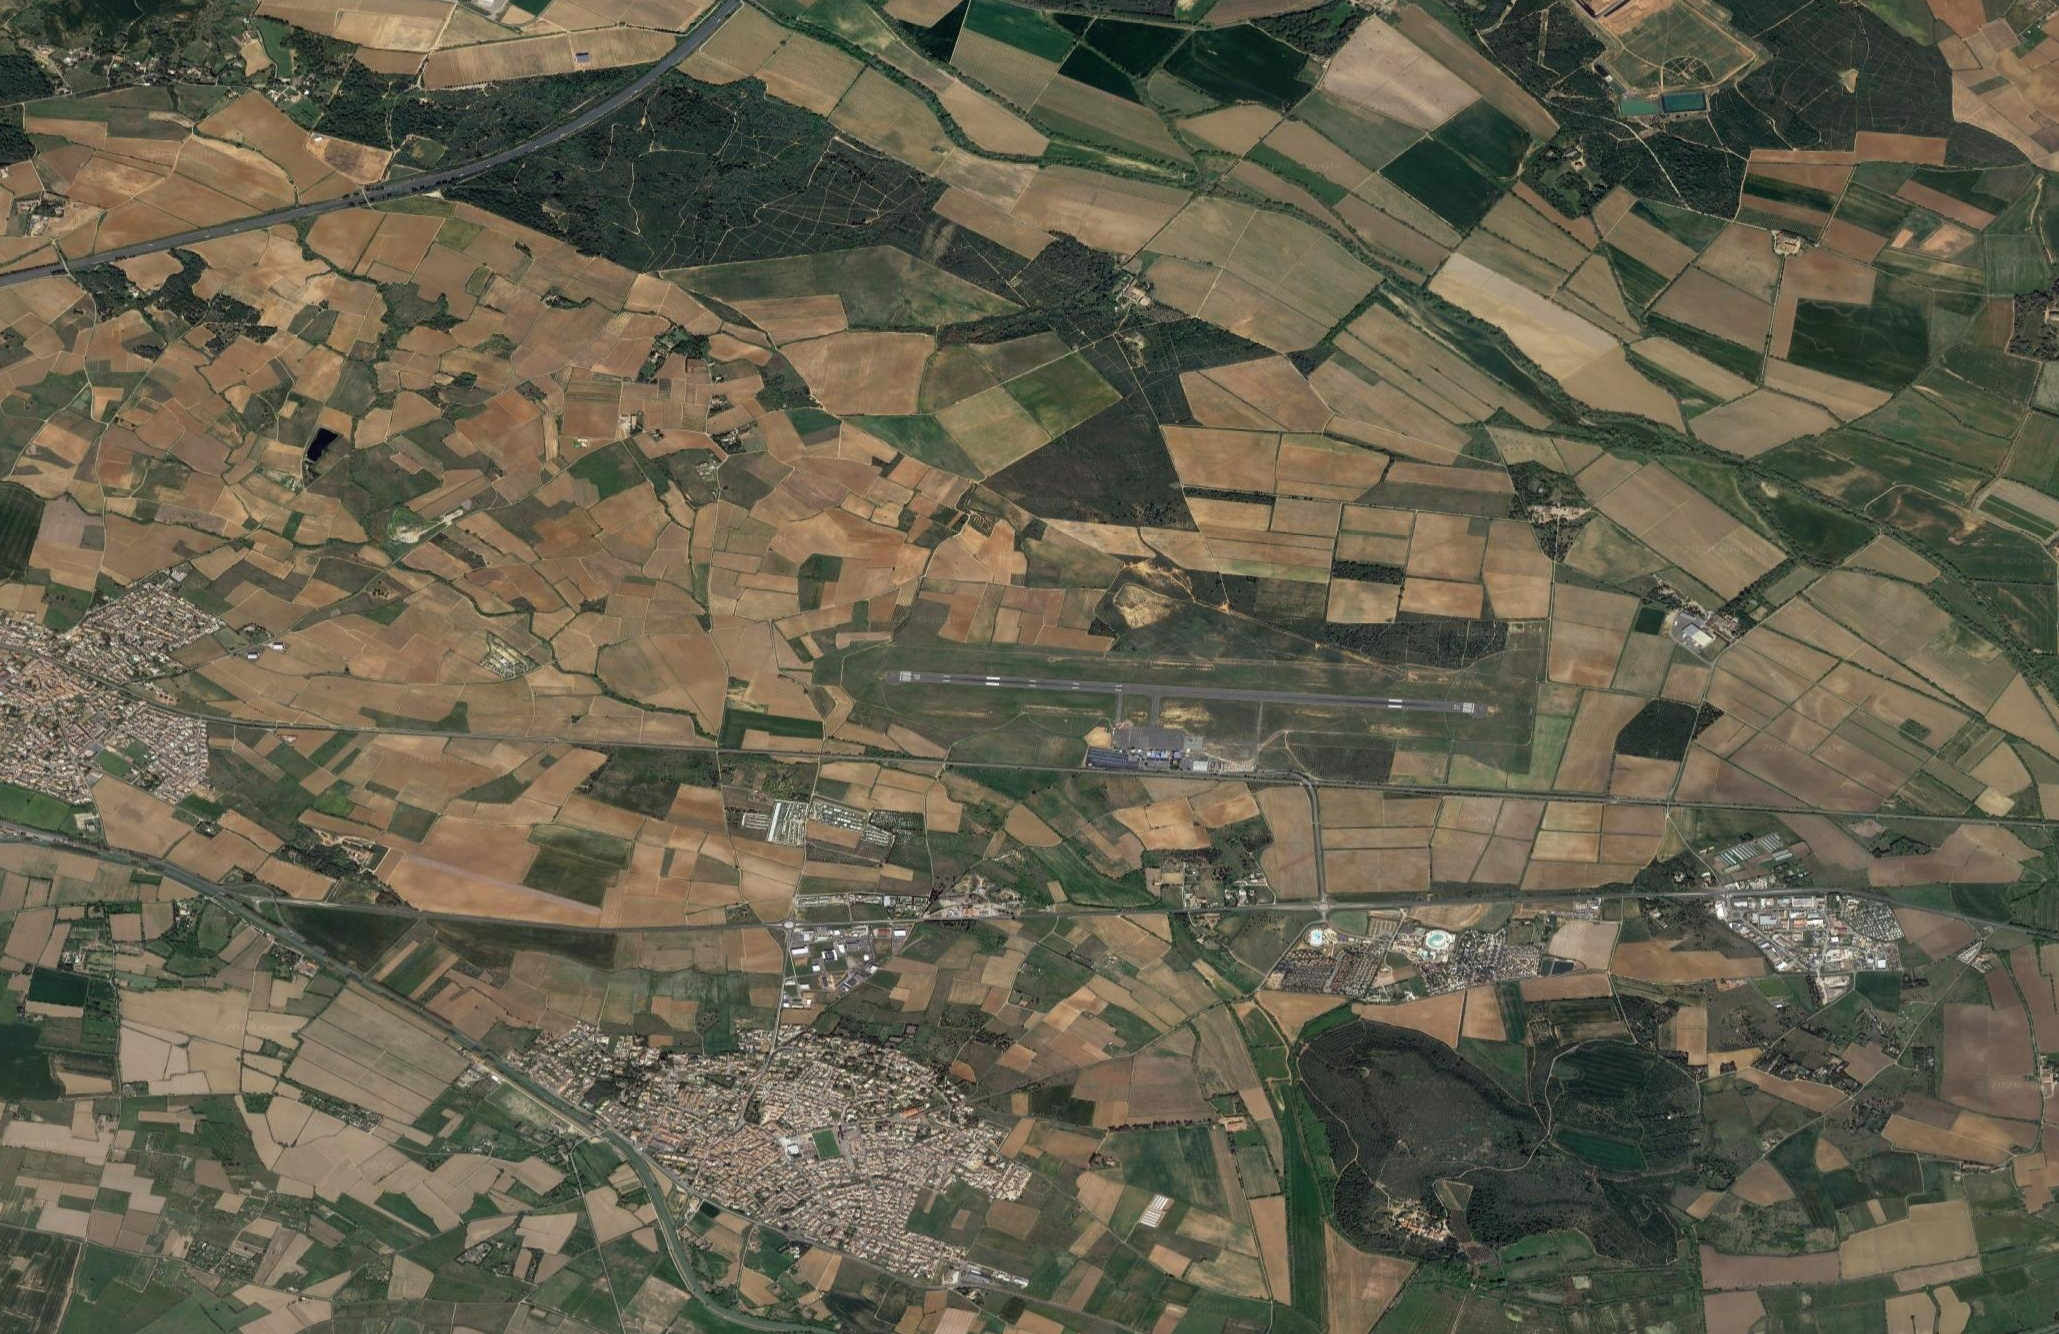airport: (881, 665, 1492, 774)
motorway: (488, 86, 629, 173), (314, 153, 488, 218), (632, 2, 743, 99), (155, 203, 314, 260), (2, 239, 153, 285)
